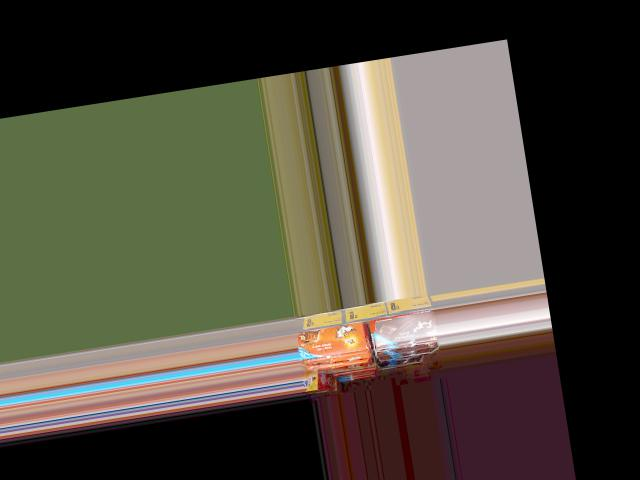chocolate: (373, 303, 439, 350)
